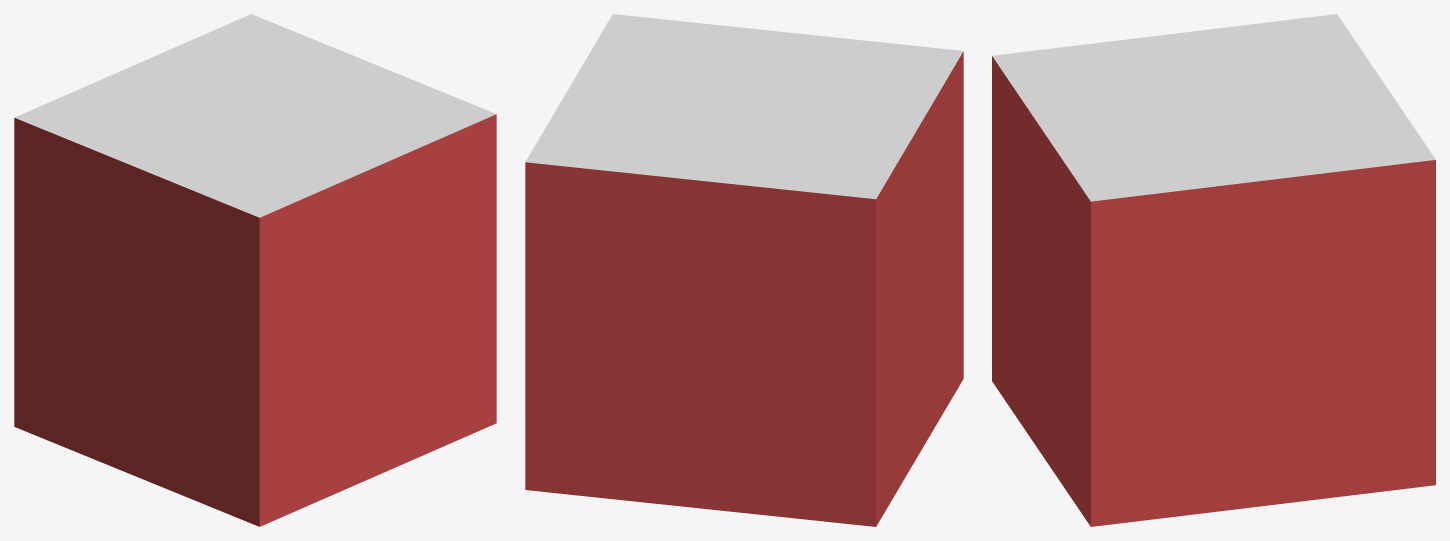
Rendered from teste2.fbx.
The picture shows the model from 3 angles, left to right: view 1: azimuth 30°, elevation 25°; view 2: azimuth 150°, elevation 25°; view 3: azimuth 270°, elevation 25°; orthographic projection. The views are drawn at different scales.
Visible parts, largest first — view 1: Cube; view 2: Cube; view 3: Cube.
Boxes of the visible parts, left/top/right/bottom form: Cube: left=14, top=14, right=496, bottom=526; Cube: left=525, top=14, right=963, bottom=526; Cube: left=992, top=14, right=1435, bottom=526.
Bounding box in the file's own units: 247 × 200 × 247.
